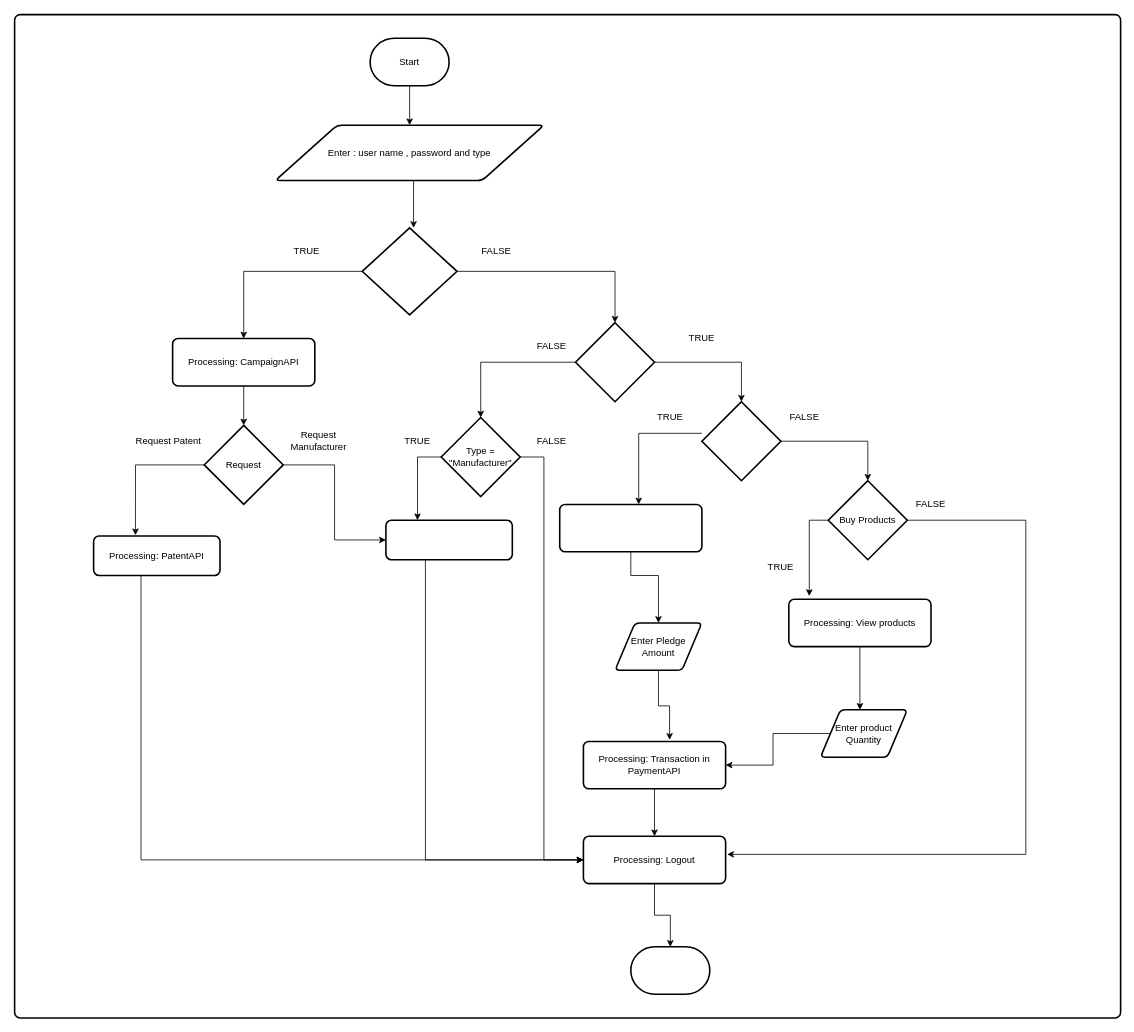
Image size: 1134x1032. Some labels were removed from this diagram. The box of each missing label's shape, as (x1, y1, x2, y2) in pixels:
Back Concepts: (701, 401, 781, 481)
Processing: ManufacturerAPI: (385, 519, 513, 560)
Processing: View Concepts: (559, 503, 702, 552)
STOP: (630, 946, 710, 995)
Type = "Consumer": (574, 322, 655, 402)
Type = 'Researcher': (361, 227, 457, 315)
